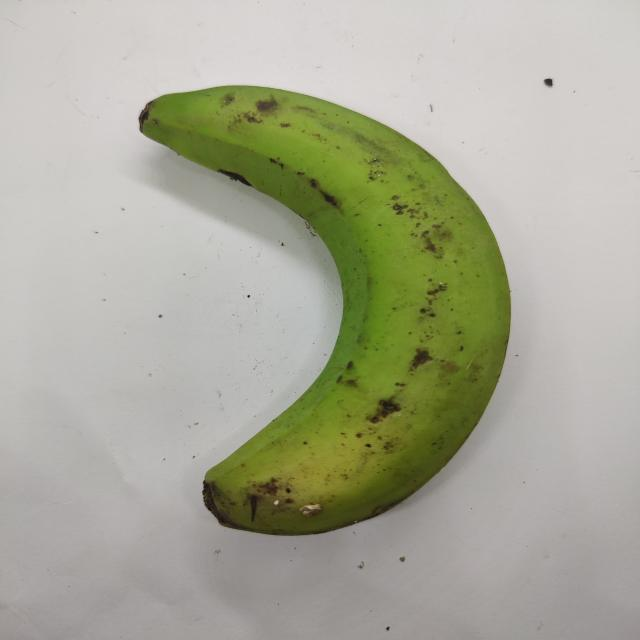Raw: (92, 74, 528, 569)
